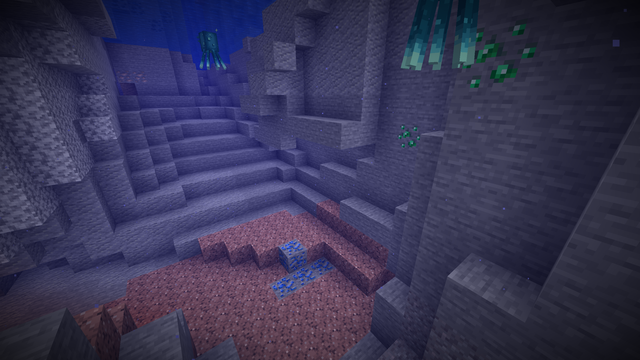emerald: (460, 23, 537, 96), (398, 122, 423, 151)
iron: (114, 70, 148, 84)
lapis: (271, 239, 334, 299)
